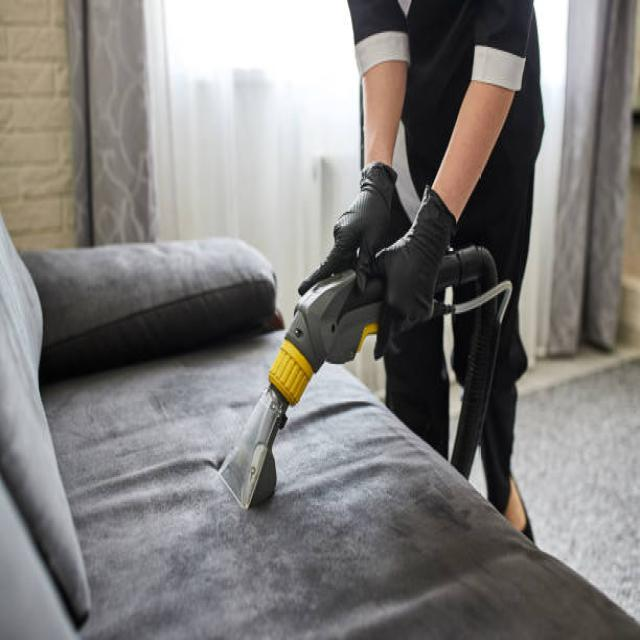Gloves: (296, 150, 410, 346), (351, 180, 465, 376)
